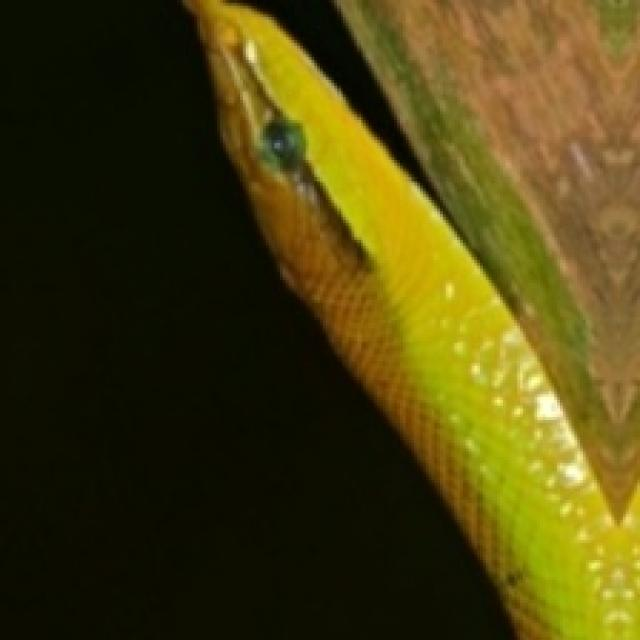red-tailed green ratsnake: (186, 0, 637, 637)
